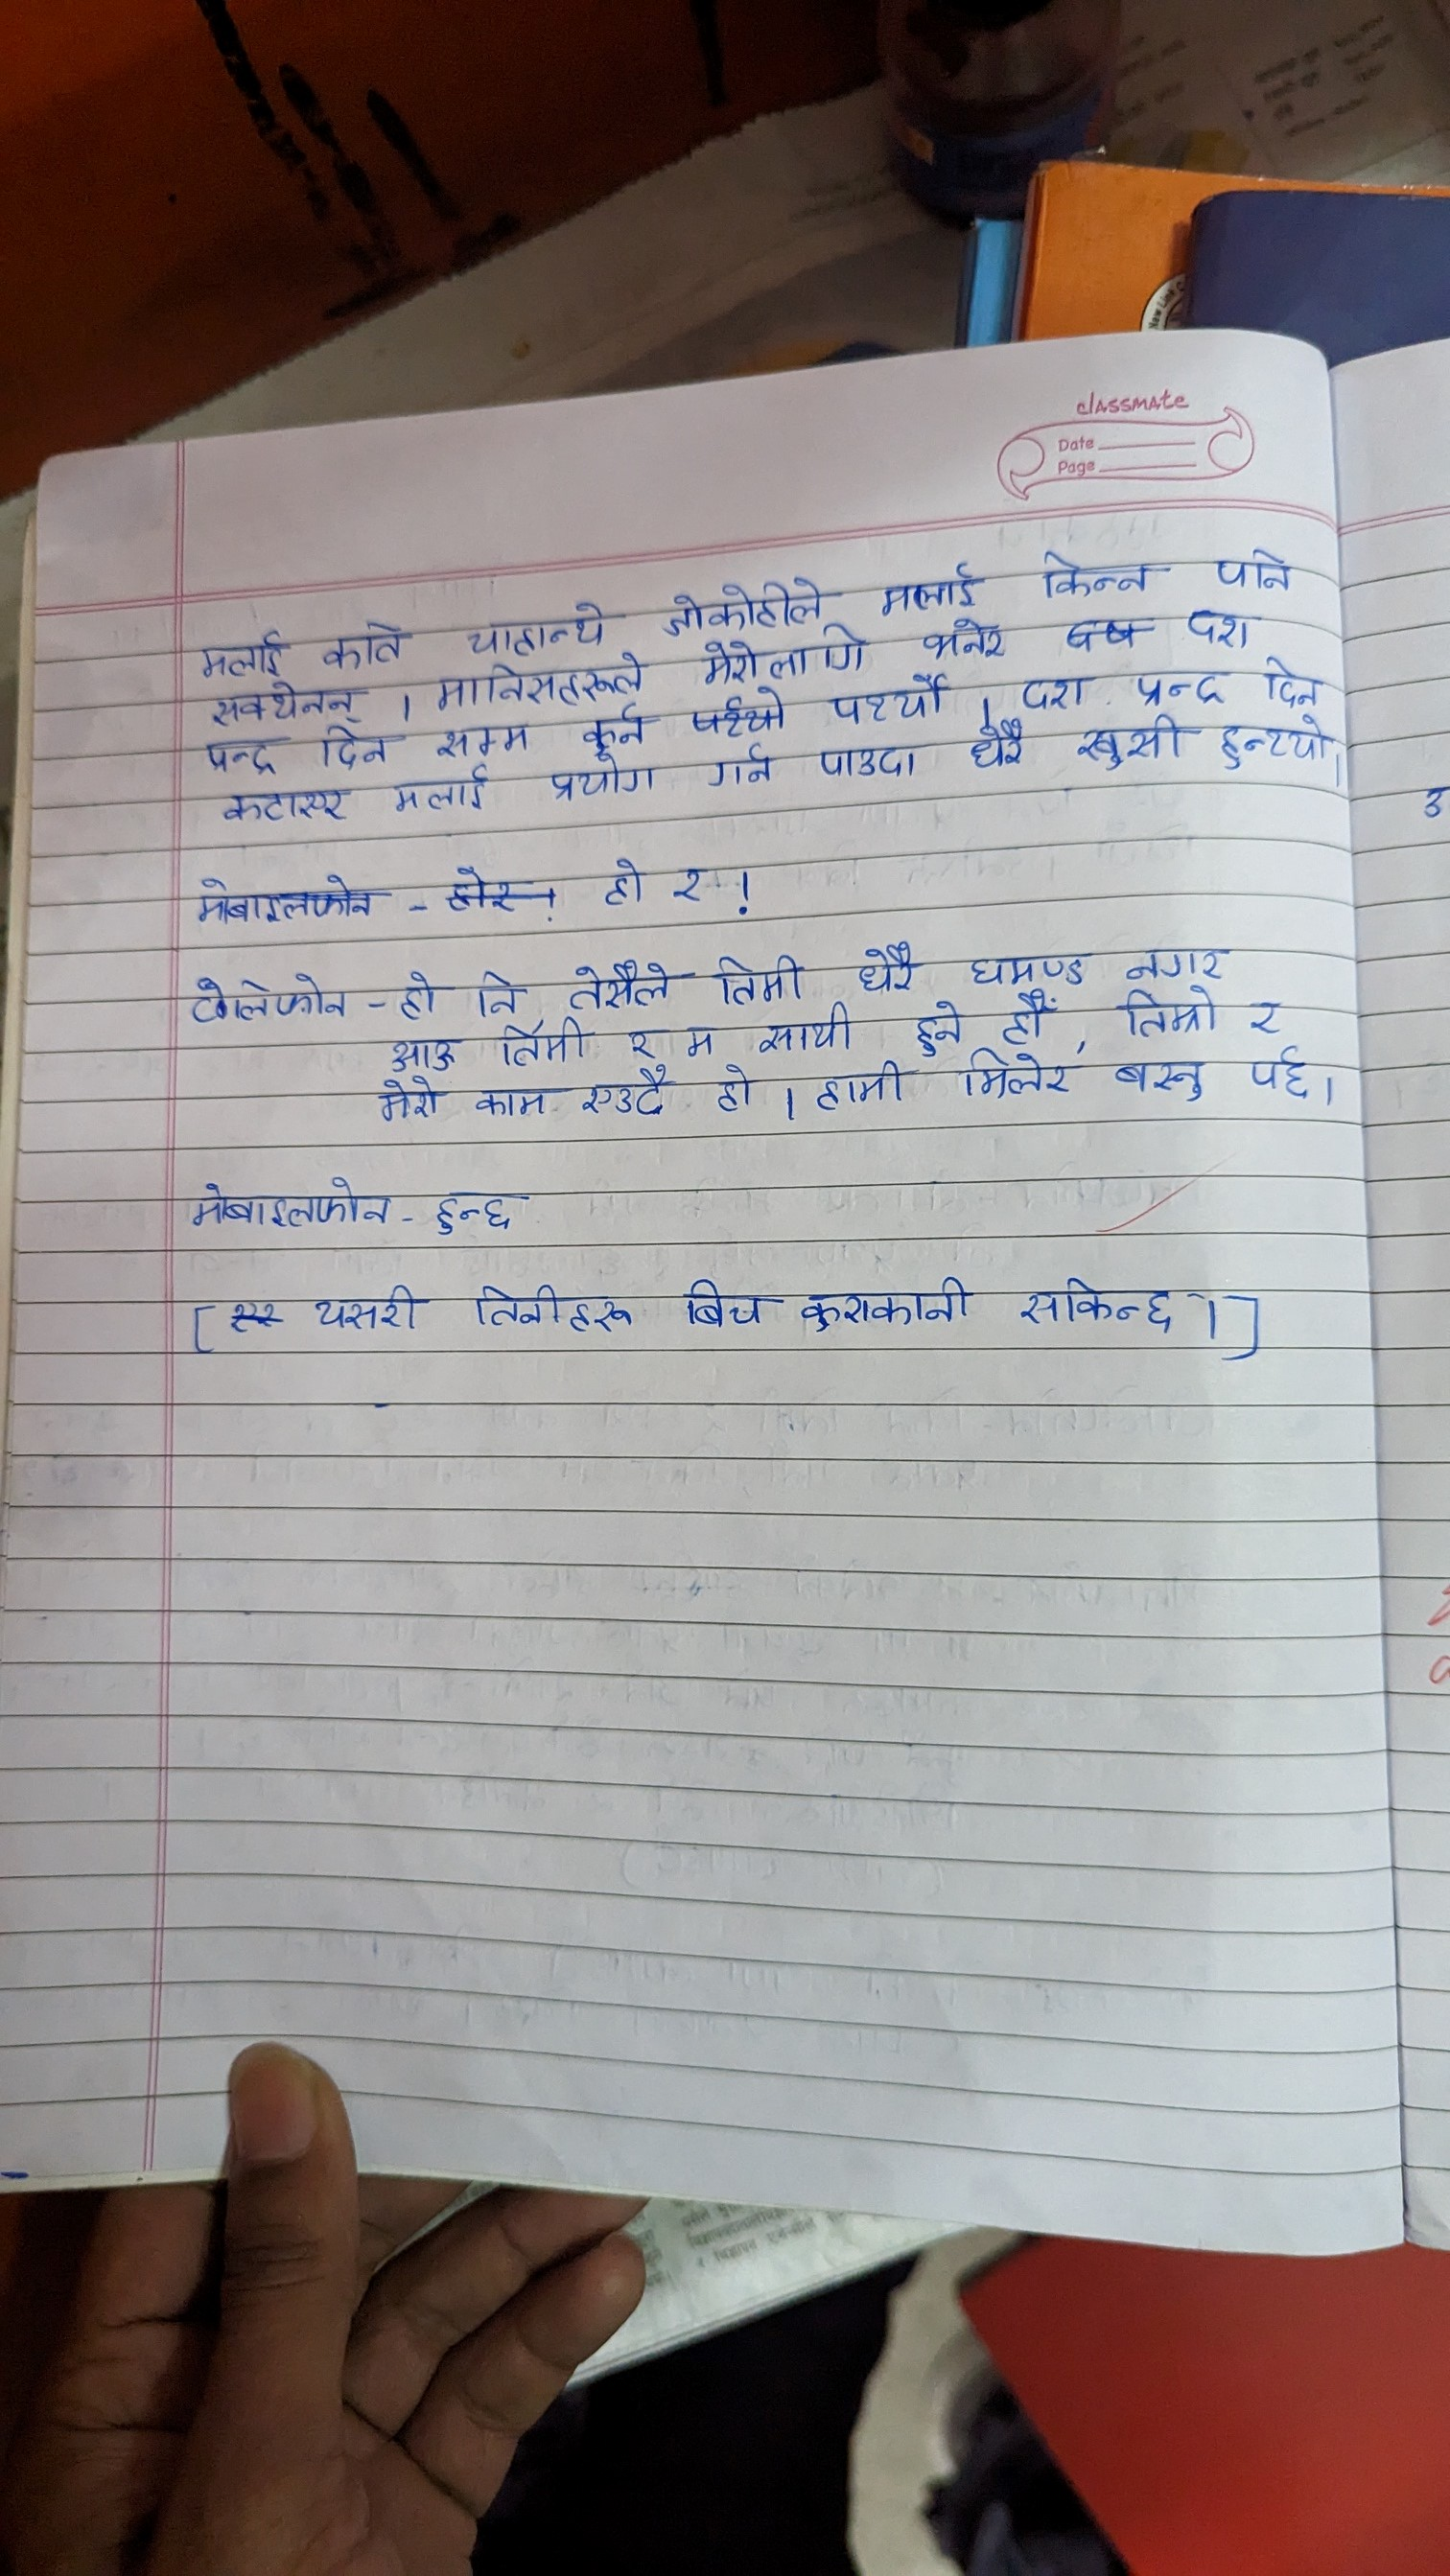text: (1006, 1267, 1179, 1343), (188, 1175, 397, 1231), (182, 870, 379, 925), (795, 1272, 968, 1334), (189, 966, 349, 1026), (467, 1276, 629, 1334), (434, 658, 641, 702), (655, 579, 825, 630), (459, 598, 609, 655), (869, 556, 991, 612), (430, 1180, 533, 1246), (556, 959, 683, 1010), (1073, 715, 1188, 771), (1209, 713, 1324, 770), (308, 1281, 430, 1332), (1200, 536, 1300, 596), (204, 683, 363, 720), (223, 786, 354, 830), (821, 681, 947, 727), (965, 1046, 1062, 1104), (706, 955, 814, 1007), (804, 1060, 903, 1115), (388, 770, 492, 821), (315, 614, 405, 672), (915, 616, 1013, 667), (1112, 989, 1216, 1037), (967, 947, 1089, 987), (680, 1281, 772, 1334), (577, 1072, 671, 1123), (1238, 1046, 1317, 1106), (1030, 554, 1153, 593), (1114, 939, 1223, 982), (457, 957, 529, 1019), (193, 630, 287, 678), (848, 934, 922, 994), (1110, 1058, 1211, 1102), (545, 757, 653, 798), (1128, 667, 1225, 709), (496, 1026, 588, 1070), (760, 1010, 855, 1051), (811, 747, 926, 780), (772, 635, 871, 674), (701, 745, 784, 791), (436, 720, 528, 757), (372, 1074, 443, 1122), (906, 1000, 961, 1058), (706, 1062, 761, 1120), (694, 639, 763, 685), (200, 736, 282, 775), (968, 720, 1032, 770), (474, 1083, 558, 1120), (575, 706, 644, 750), (1177, 609, 1252, 649), (1262, 658, 1321, 709), (317, 727, 397, 764), (386, 970, 439, 1024), (1016, 674, 1089, 713), (381, 1033, 460, 1069), (602, 855, 650, 911), (997, 993, 1050, 1039), (1241, 994, 1285, 1039), (671, 860, 710, 904), (678, 1023, 719, 1056), (623, 1023, 659, 1060)
